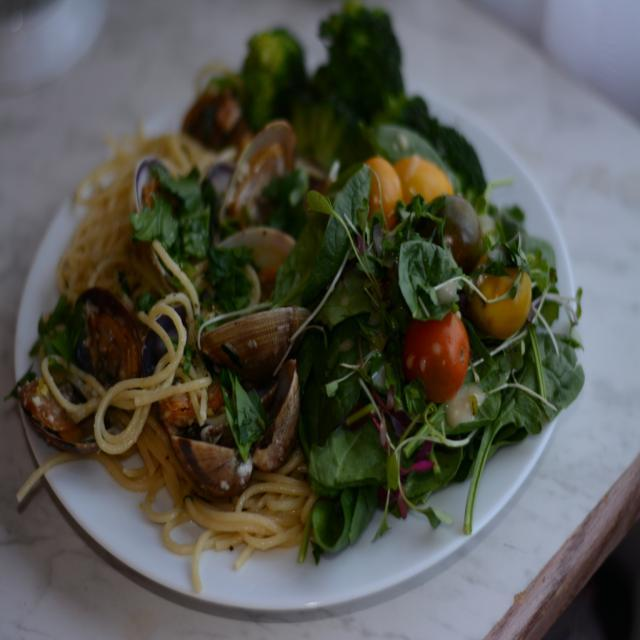Tomato: (407, 311, 473, 395)
